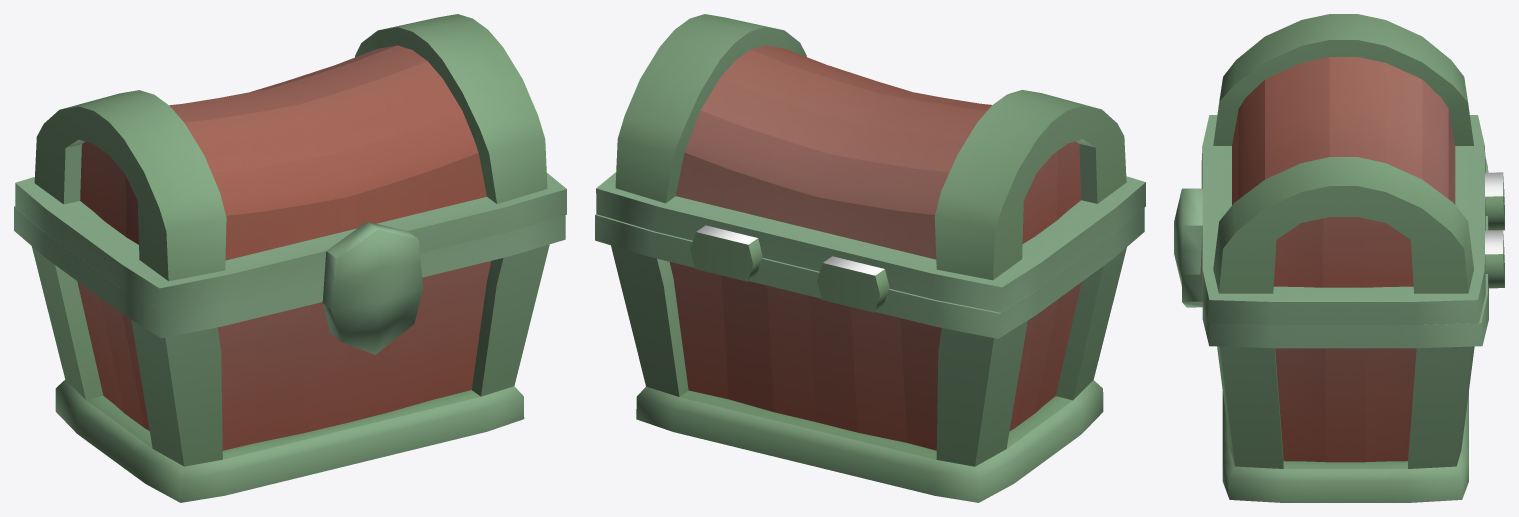
The model's file is chest_old.glb.
3 views of the same model, side by side, from view 1: azimuth 30°, elevation 25°; view 2: azimuth 150°, elevation 25°; view 3: azimuth 270°, elevation 25° (orthographic). The views are drawn at different scales.
Visible parts, largest first — view 1: cehst_old_top, cehst_old_bottom; view 2: cehst_old_top, cehst_old_bottom; view 3: cehst_old_top, cehst_old_bottom.
Boxes of the visible parts, bbox=[...] form: cehst_old_top: bbox=[15, 14, 566, 354]; cehst_old_bottom: bbox=[14, 206, 565, 502]; cehst_old_top: bbox=[596, 14, 1145, 312]; cehst_old_bottom: bbox=[595, 208, 1144, 502]; cehst_old_top: bbox=[1174, 14, 1504, 324]; cehst_old_bottom: bbox=[1202, 156, 1488, 502].
Bounding box in the file's own units: 3.52 × 2.82 × 2.61.
Materials: 1 (1 with a texture image).
